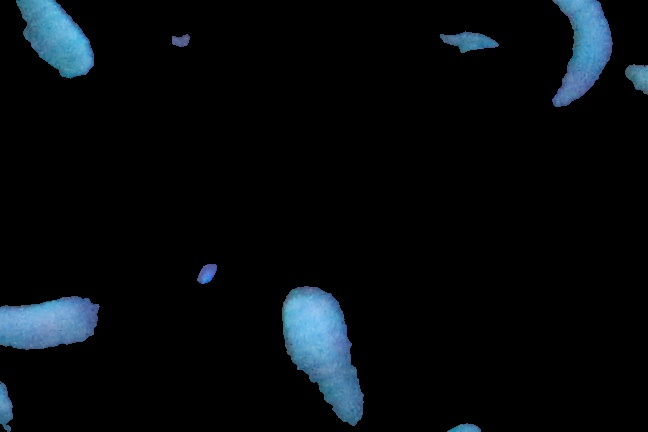larvae: (278, 284, 366, 425), (515, 1, 612, 111), (6, 1, 97, 78), (1, 298, 104, 352)
